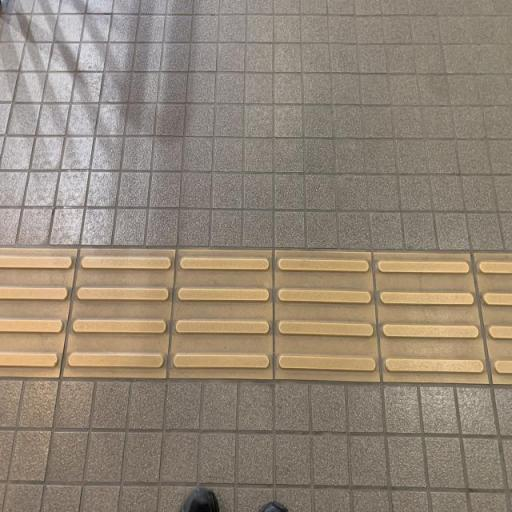line: (371, 254, 491, 382), (62, 248, 176, 380), (167, 249, 275, 380), (275, 252, 384, 380)
